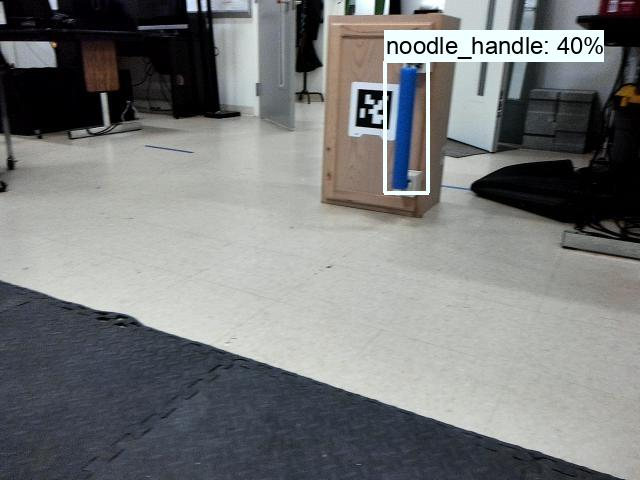noodle_handle: (382, 61, 431, 192)
